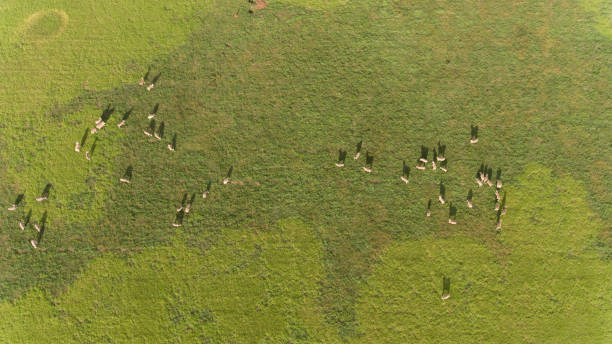sheep: (478, 171, 494, 189), (489, 214, 506, 230), (93, 118, 113, 131), (359, 165, 379, 177), (421, 204, 435, 221), (414, 163, 432, 175), (68, 139, 86, 151), (463, 195, 477, 210), (439, 289, 452, 304), (398, 171, 411, 186), (466, 135, 483, 146), (171, 218, 186, 229), (115, 118, 131, 128), (436, 154, 450, 165), (351, 150, 365, 161), (493, 197, 503, 212), (152, 133, 164, 145), (446, 217, 459, 228), (183, 203, 194, 216), (220, 175, 230, 189), (439, 164, 450, 176), (166, 144, 179, 154), (201, 189, 212, 200), (82, 150, 93, 161), (417, 155, 429, 165), (146, 111, 158, 121), (116, 177, 133, 184), (438, 195, 446, 209), (493, 189, 504, 199), (495, 180, 507, 189), (429, 158, 437, 171), (146, 82, 157, 91), (333, 161, 345, 169), (144, 129, 156, 137), (177, 205, 187, 214)
